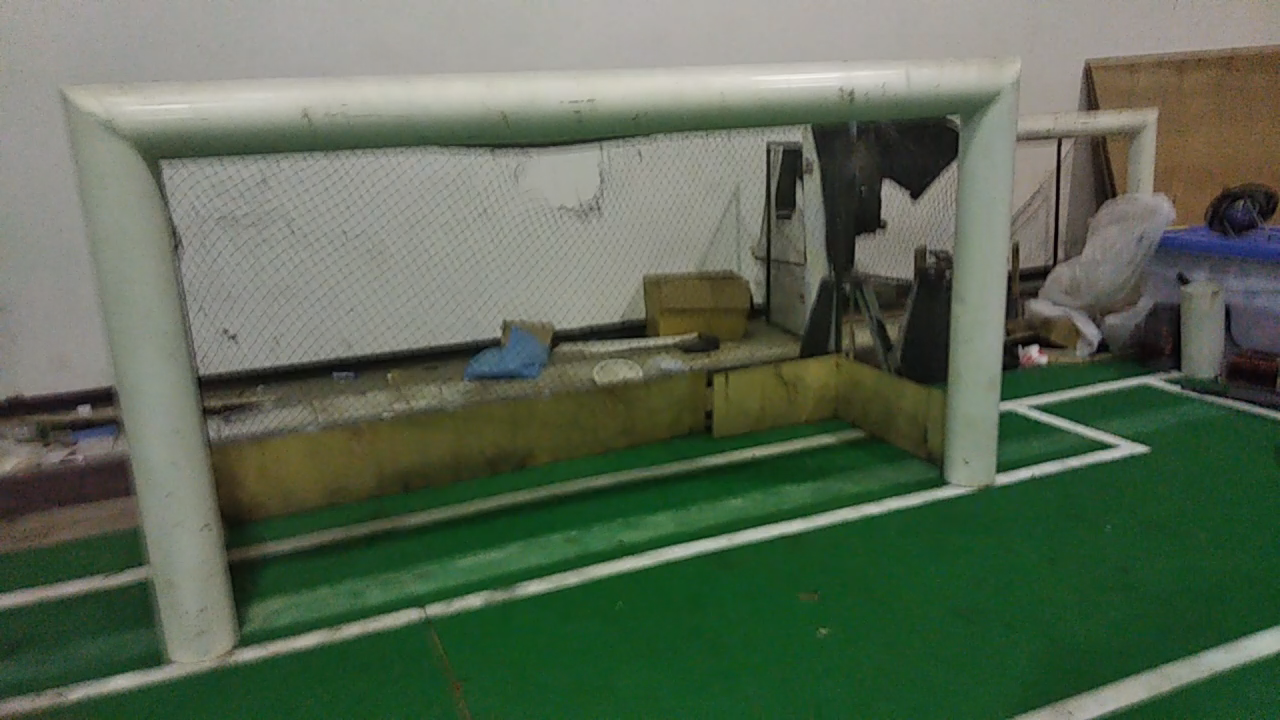gawang: (43, 46, 1039, 674)
